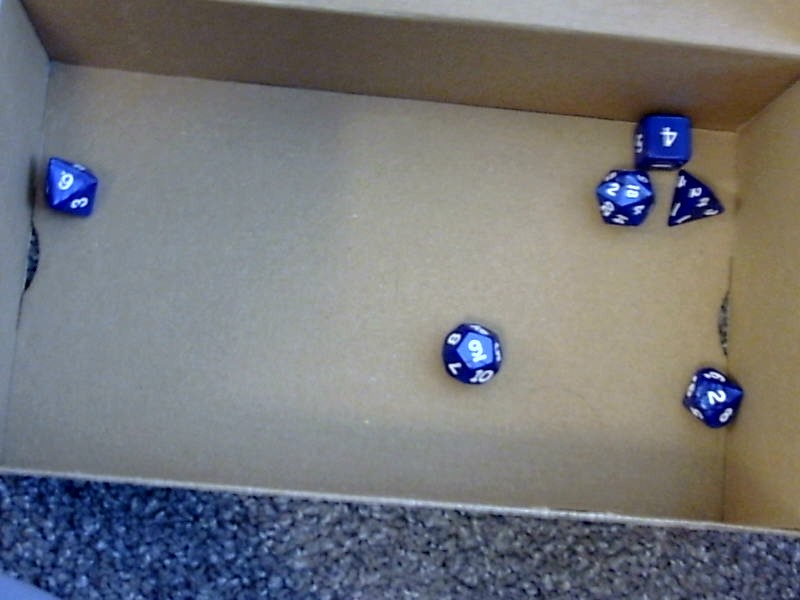d10 2: (679, 351, 747, 429)
d12 9: (435, 316, 506, 387)
d20 18: (591, 168, 655, 228)
d4 2: (664, 175, 725, 228)
d6 4: (630, 111, 693, 169)
d8 6: (41, 154, 105, 220)
